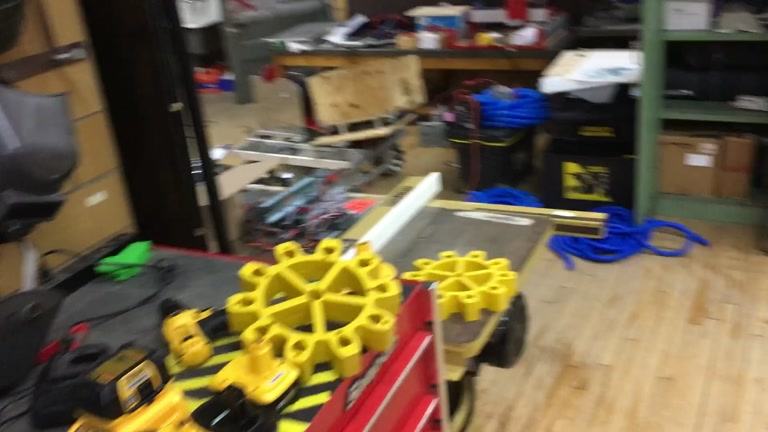gear: (224, 236, 404, 381), (400, 249, 518, 323)
